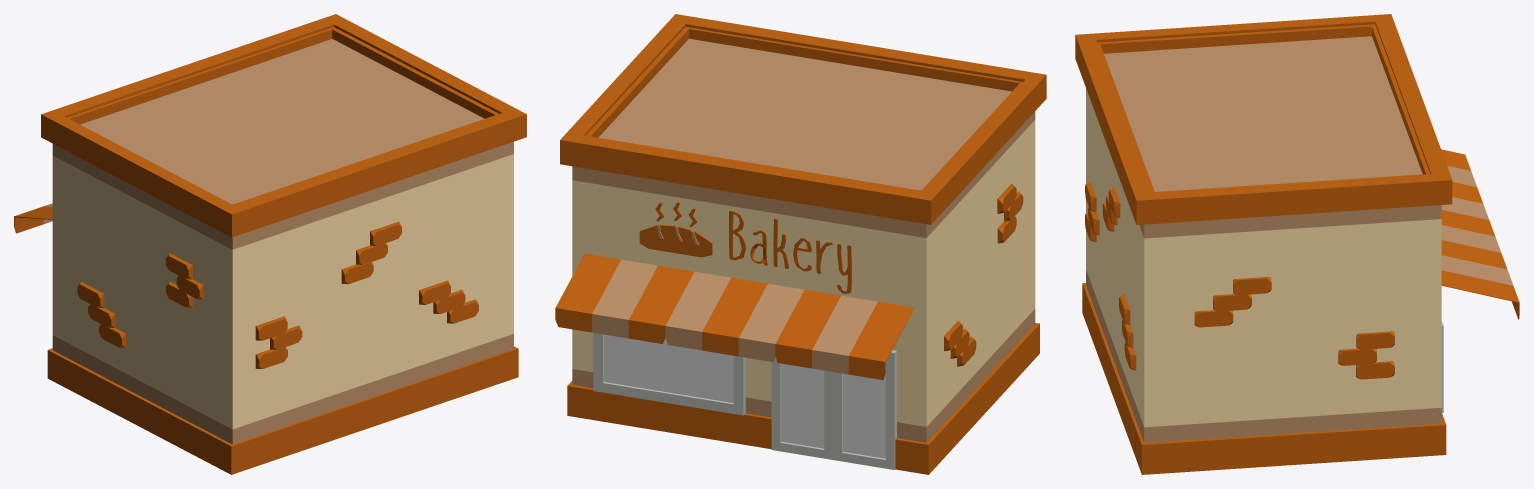
File: Bakery.fbx
3 views of the same model, side by side, from view 1: azimuth 30°, elevation 25°; view 2: azimuth 150°, elevation 25°; view 3: azimuth 270°, elevation 25° (orthographic). The views are drawn at different scales.
Visible parts, largest first — view 1: Bakery; view 2: Bakery; view 3: Bakery.
Part boxes in pixels (x1,y1,x2,y2): Bakery: (14,14,526,474); Bakery: (555,14,1046,474); Bakery: (1075,14,1519,474).
Bounding box in the file's own units: 1829 × 1837 × 1264.
